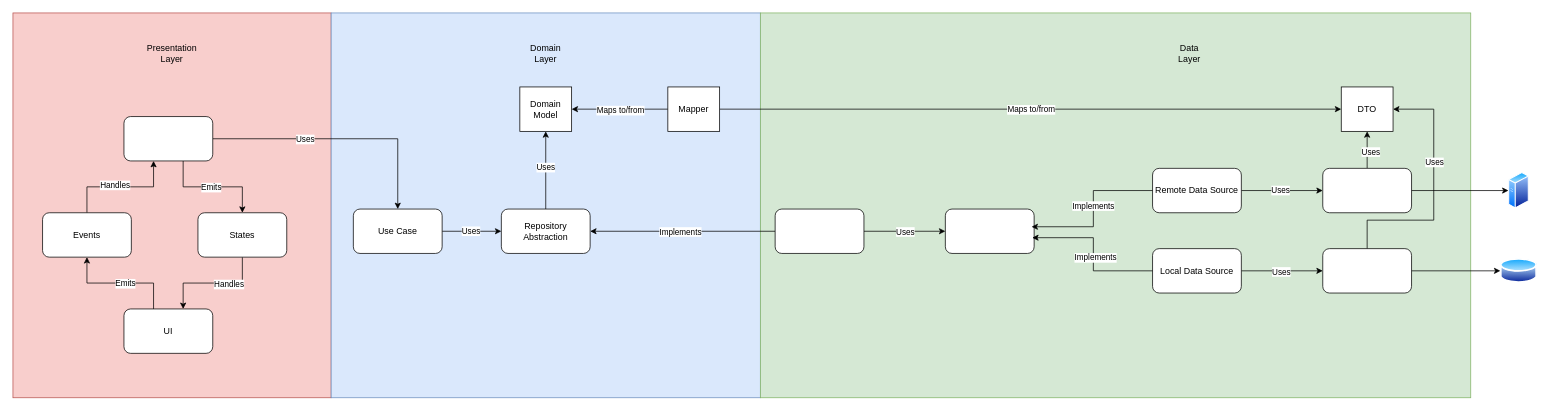
This 1550x411 diagram has some shape labels left out. Each missing label, with the centre of its shape:
"BLoC" belongs at (168,138).
"Data Source Abstraction" belongs at (989,230).
"Local Storage" belongs at (1367,270).
"Remote Client" belongs at (1367,190).
"Repository Implementation" belongs at (819,230).
